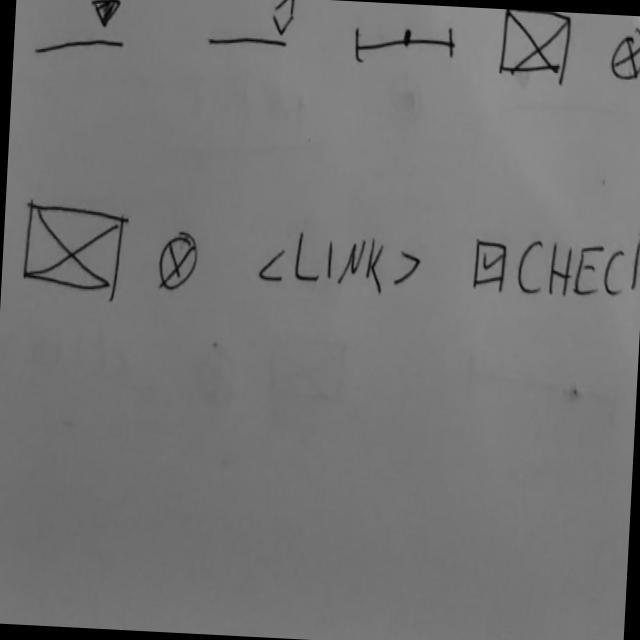checkbox: (470, 227, 640, 304)
image: (21, 197, 129, 300), (497, 10, 573, 81), (158, 231, 201, 297), (609, 27, 640, 87)
link: (257, 227, 425, 301)
number-input: (206, 1, 301, 51)
select: (33, 1, 130, 64)
slider: (353, 19, 459, 71)
